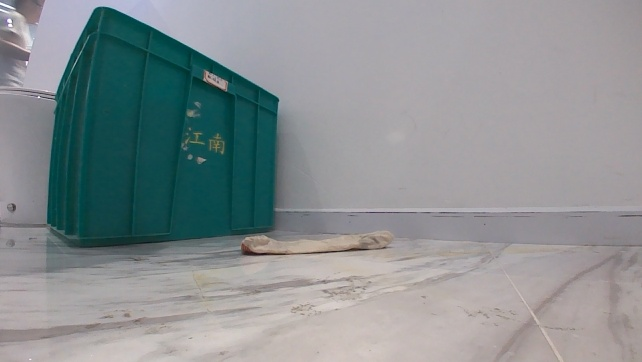socks: (238, 228, 395, 257)
toilet: (0, 84, 67, 228)
